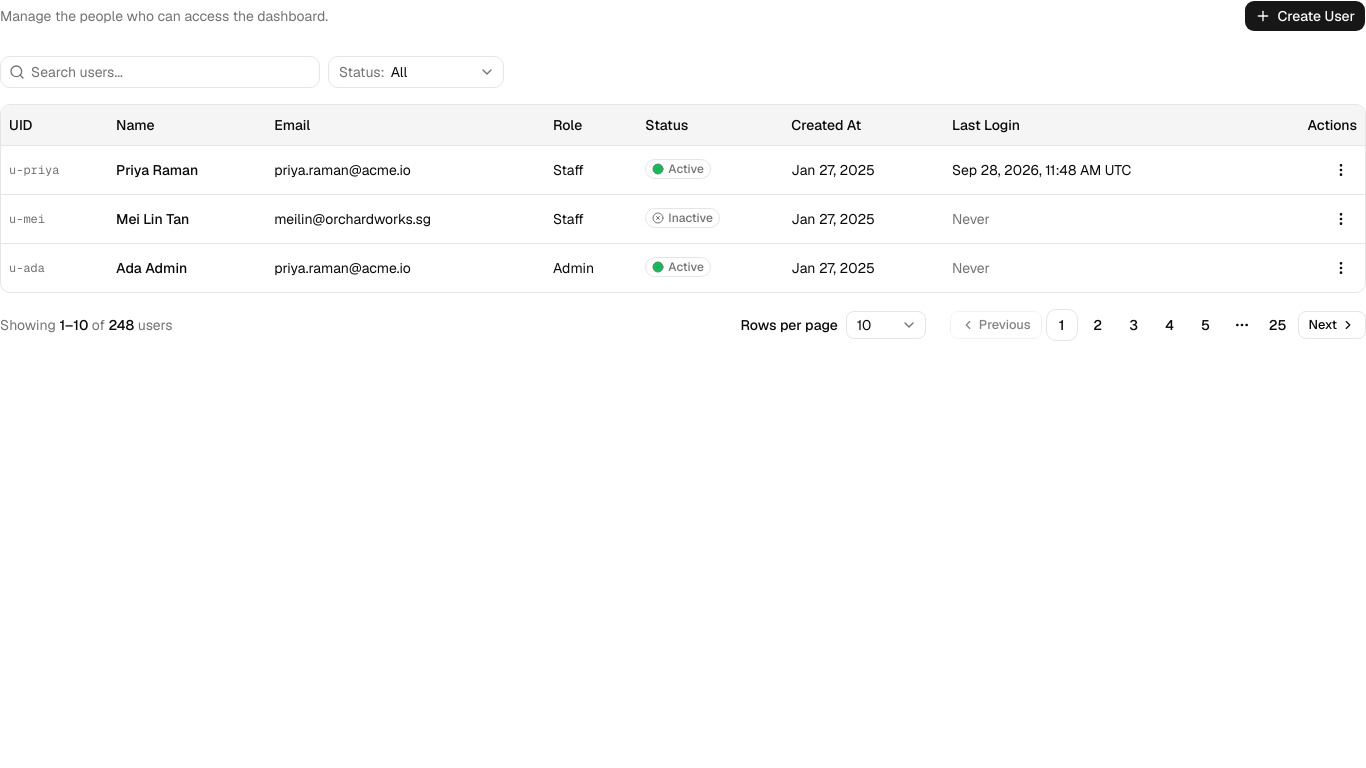
it: UsersList row actions › asks before disabling, then disables through the status endpoint and reloads
The width and height of the screenshot is (1366, 768).
Expected: the text "Priya Raman" is shown, [116,160,198,178]
Click the button named "Actions for Priya Raman". click: (1341, 170)
box: [1325,154,1357,186]
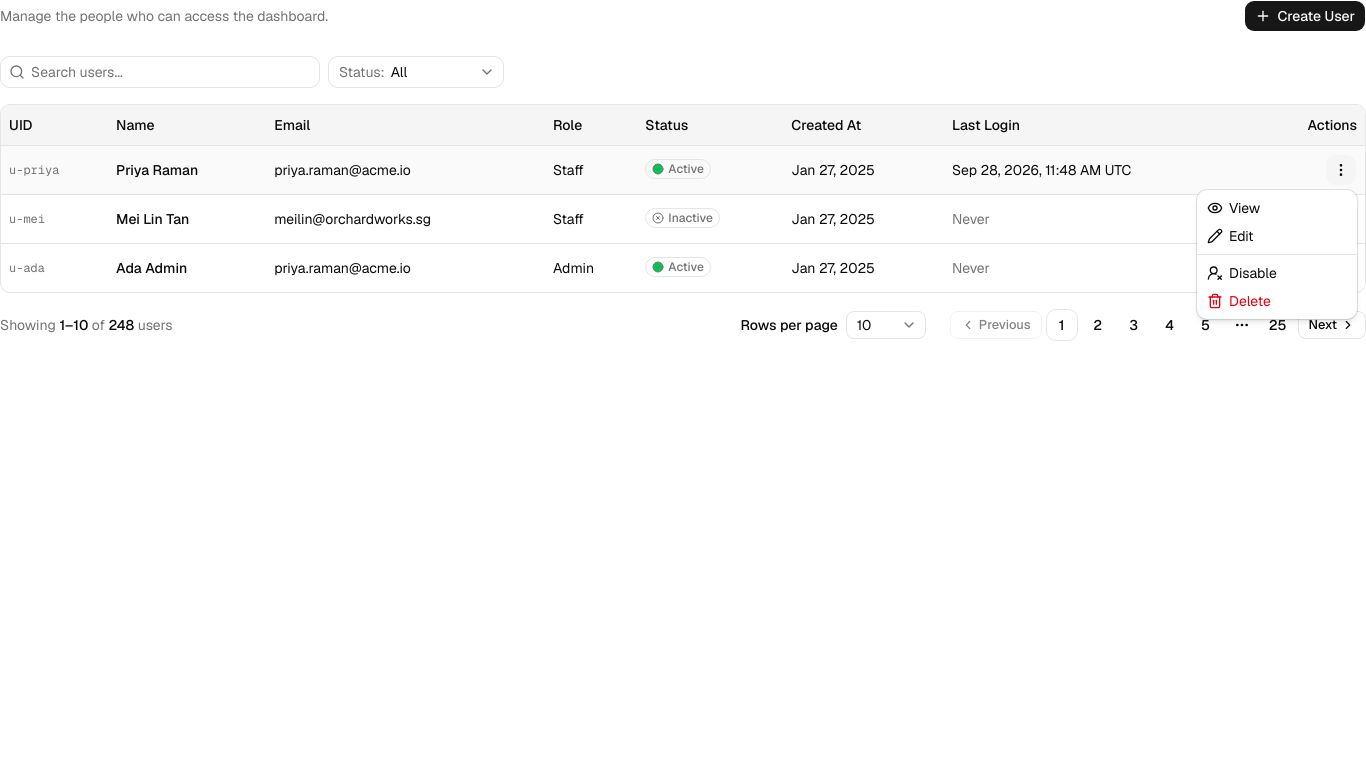
Click the menu item "Disable". click: (1242, 273)
box: [1207,264,1277,282]
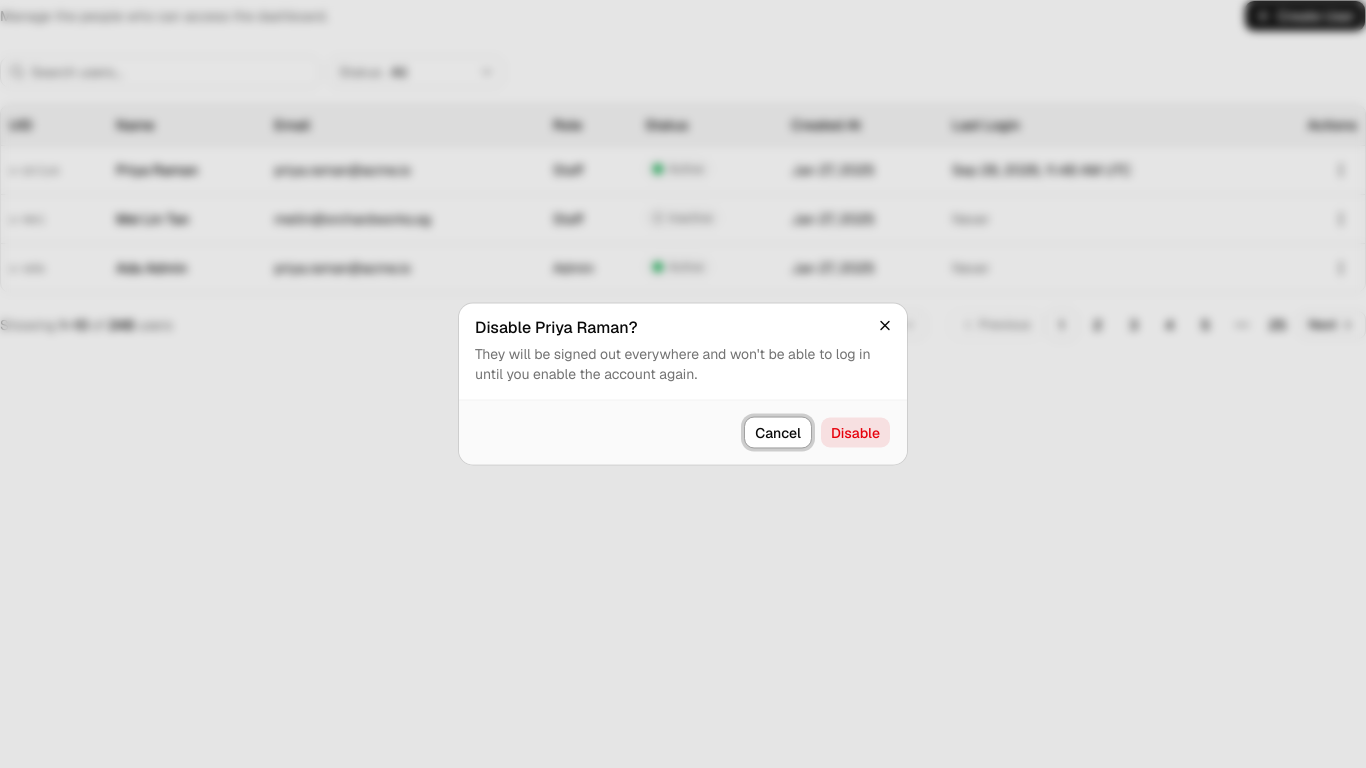
Click the button "Disable". click: (855, 432)
box: [820,416,891,448]
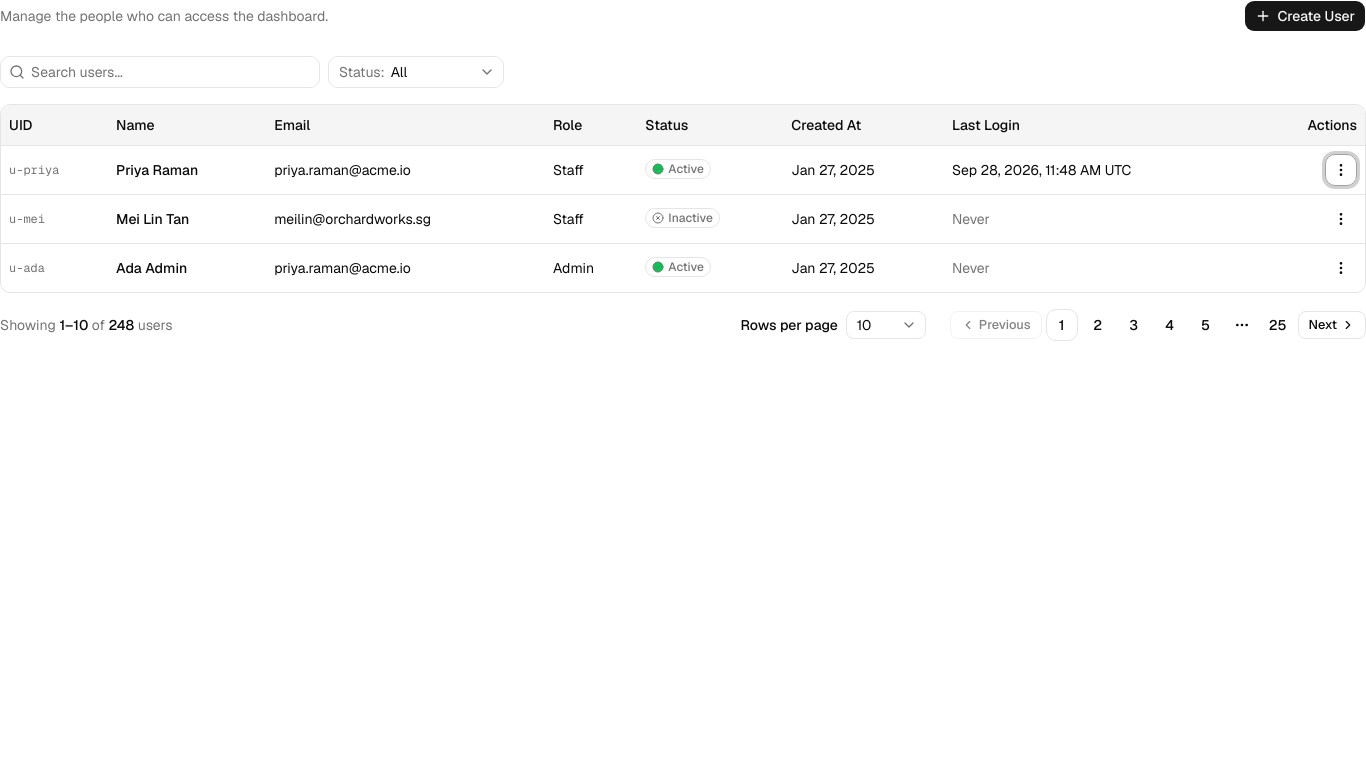
Expected: the dialog is gone
